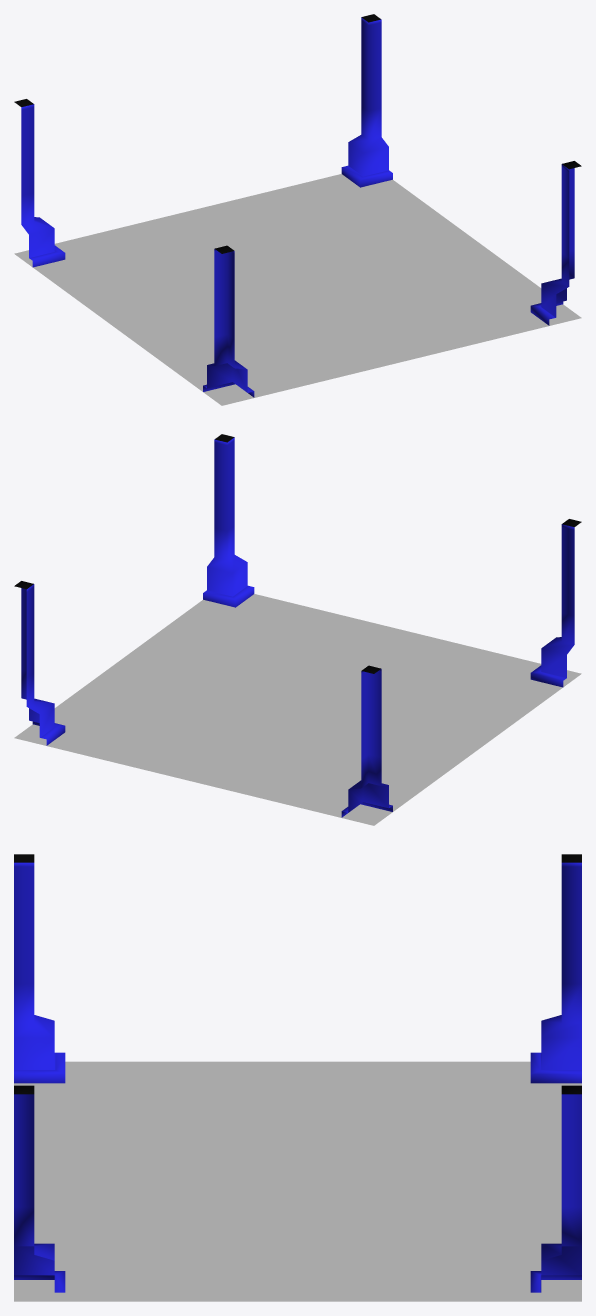
The model's file is S_Cell_15.fbx.
3 views of the same model, one above another, from view 1: azimuth 30°, elevation 25°; view 2: azimuth 150°, elevation 25°; view 3: azimuth 270°, elevation 25° (orthographic). The views are drawn at different scales.
Visible parts, largest first — view 1: S_Ground, Wall_Pillar_low.003, Wall_Pillar_low.002, Wall_Pillar_low.004, Wall_Pillar_low.005; view 2: S_Ground, Wall_Pillar_low.005, Wall_Pillar_low.004, Wall_Pillar_low.002, Wall_Pillar_low.003; view 3: S_Ground, Wall_Pillar_low.002, Wall_Pillar_low.004, Wall_Pillar_low.003, Wall_Pillar_low.005.
Part boxes in pixels (x1,y1,x2,y2): S_Ground: [14, 174, 581, 405]; Wall_Pillar_low.003: [341, 14, 392, 187]; Wall_Pillar_low.002: [203, 245, 254, 397]; Wall_Pillar_low.004: [14, 99, 65, 267]; Wall_Pillar_low.005: [530, 161, 581, 325]; S_Ground: [14, 594, 581, 825]; Wall_Pillar_low.005: [203, 434, 254, 607]; Wall_Pillar_low.004: [341, 665, 392, 817]; Wall_Pillar_low.002: [530, 519, 581, 687]; Wall_Pillar_low.003: [14, 581, 65, 745]; S_Ground: [14, 1061, 581, 1301]; Wall_Pillar_low.002: [14, 854, 65, 1083]; Wall_Pillar_low.004: [530, 854, 581, 1083]; Wall_Pillar_low.003: [530, 1085, 581, 1292]; Wall_Pillar_low.005: [14, 1085, 65, 1292].
Bounding box in the file's own units: 20 × 8.06 × 20.
